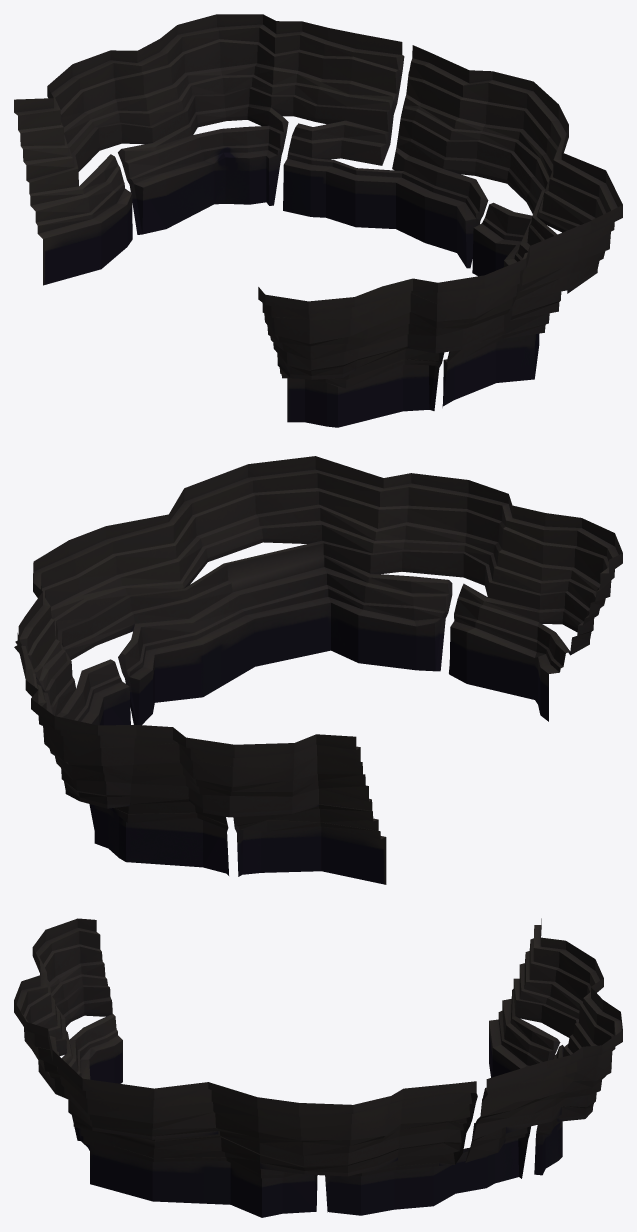
File: Wall_01.FBX
3 renders of one model, top to bottom at view 1: azimuth 30°, elevation 25°; view 2: azimuth 150°, elevation 25°; view 3: azimuth 270°, elevation 25°, orthographic. The views are drawn at different scales.
Parts seen in each view (by area): view 1: Wall_01; view 2: Wall_01; view 3: Wall_01.
Part boxes in pixels (x1,y1,x2,y2): Wall_01: (14, 14, 622, 427); Wall_01: (14, 456, 622, 884); Wall_01: (14, 918, 622, 1217).
Bounding box in the file's own units: 23.16 × 8.73 × 31.97.
